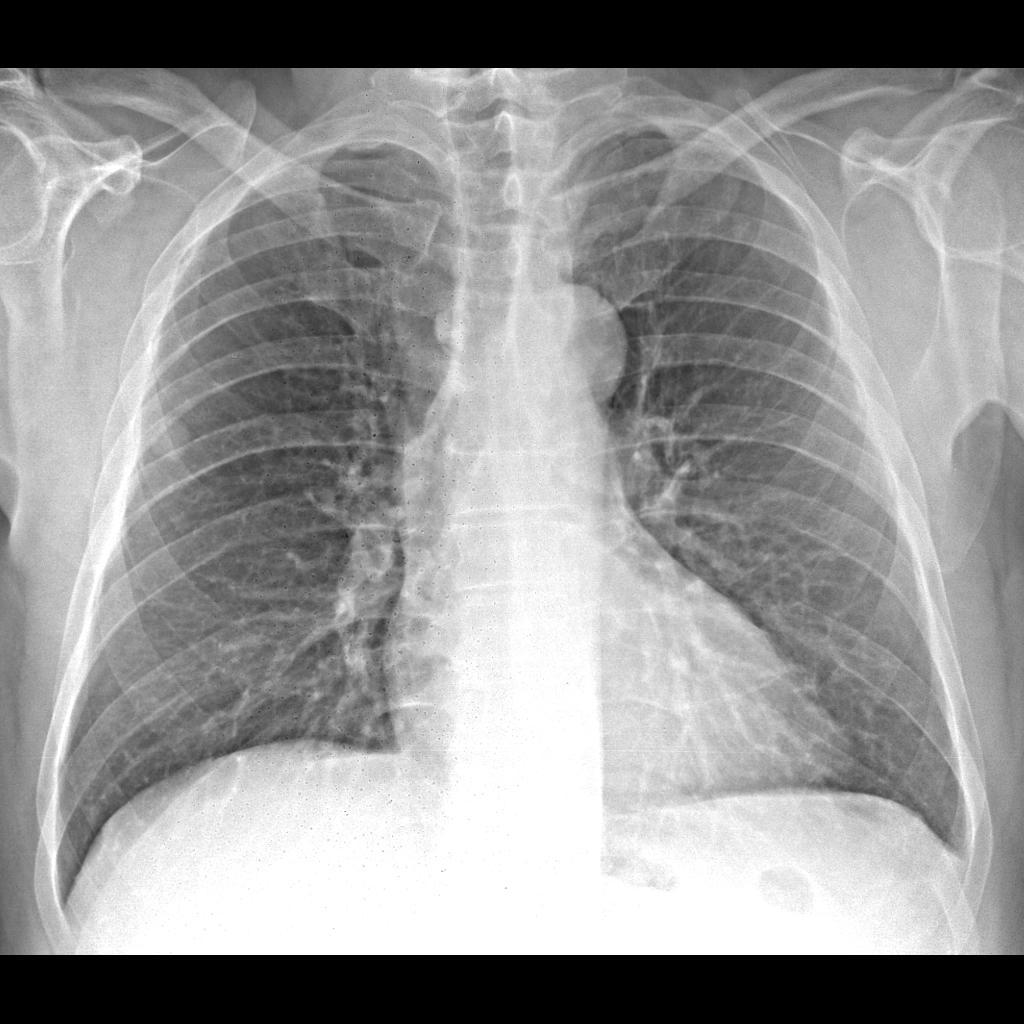Nodule: (133, 408, 203, 469)
